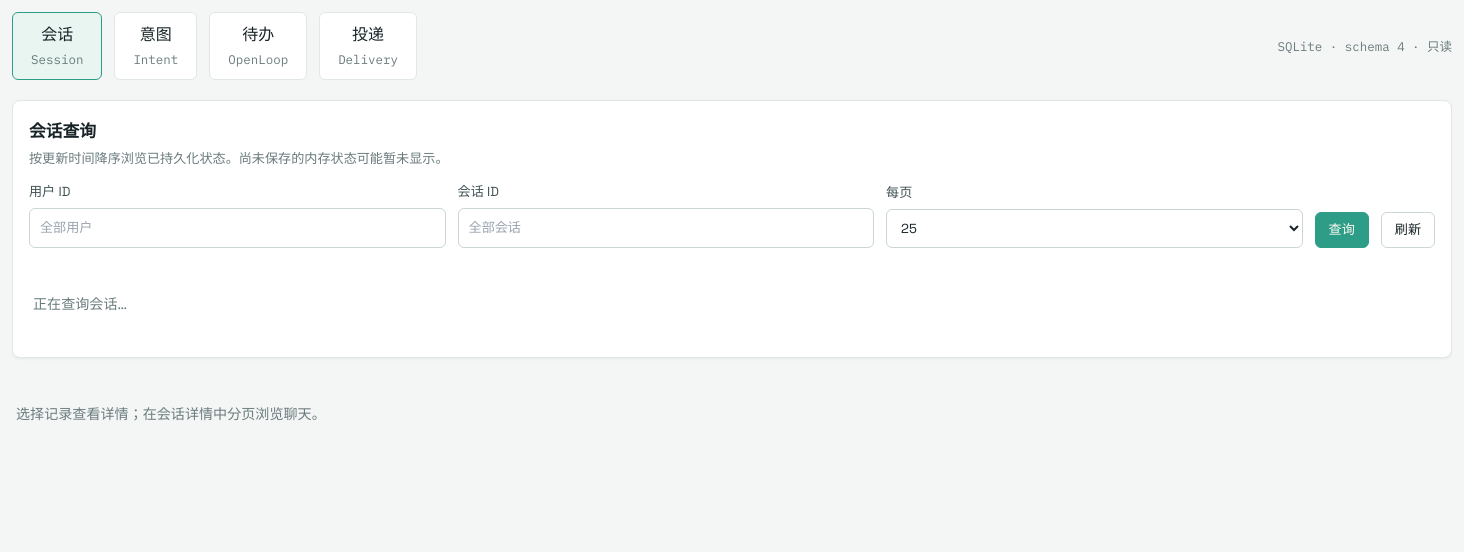
state queries › aborts superseded requests and ignores late responses even if transport ignores abort
expect the text "正在查询会话…" is shown: met, box top-left (33, 295), bottom-right (127, 313)
Click the button "意图 Intent": (156, 46) top-left (114, 12), bottom-right (197, 80)
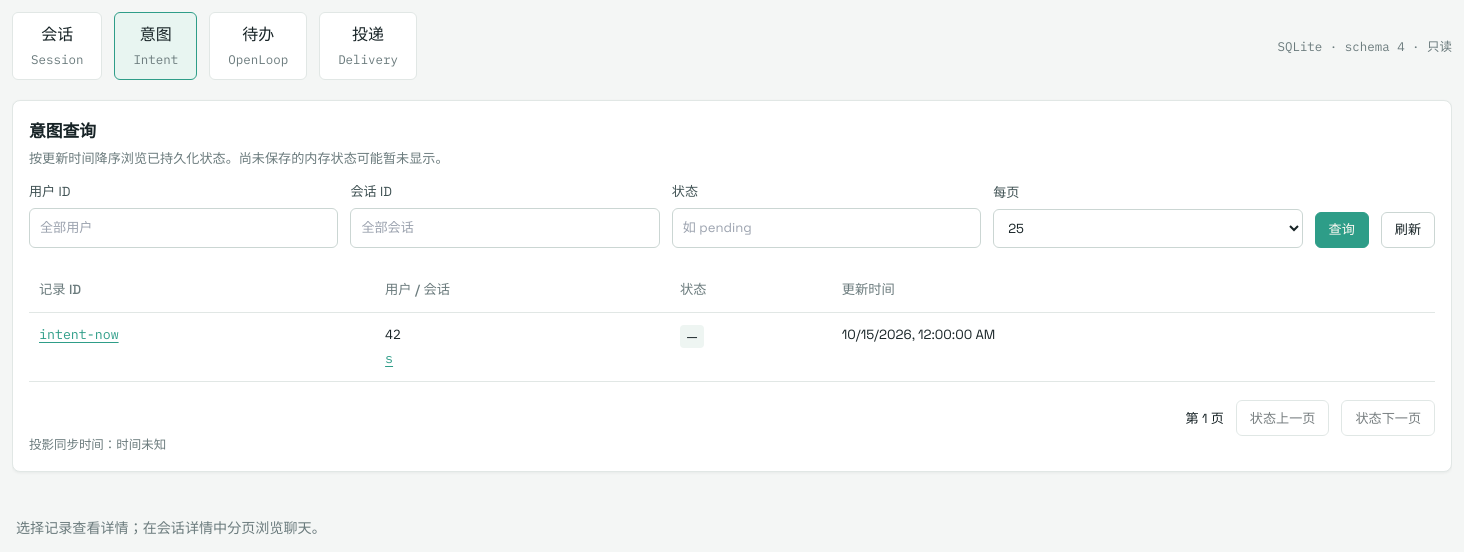
expect the button with aria-label "查看 intent-now" is shown: met, box top-left (39, 324), bottom-right (119, 344)
